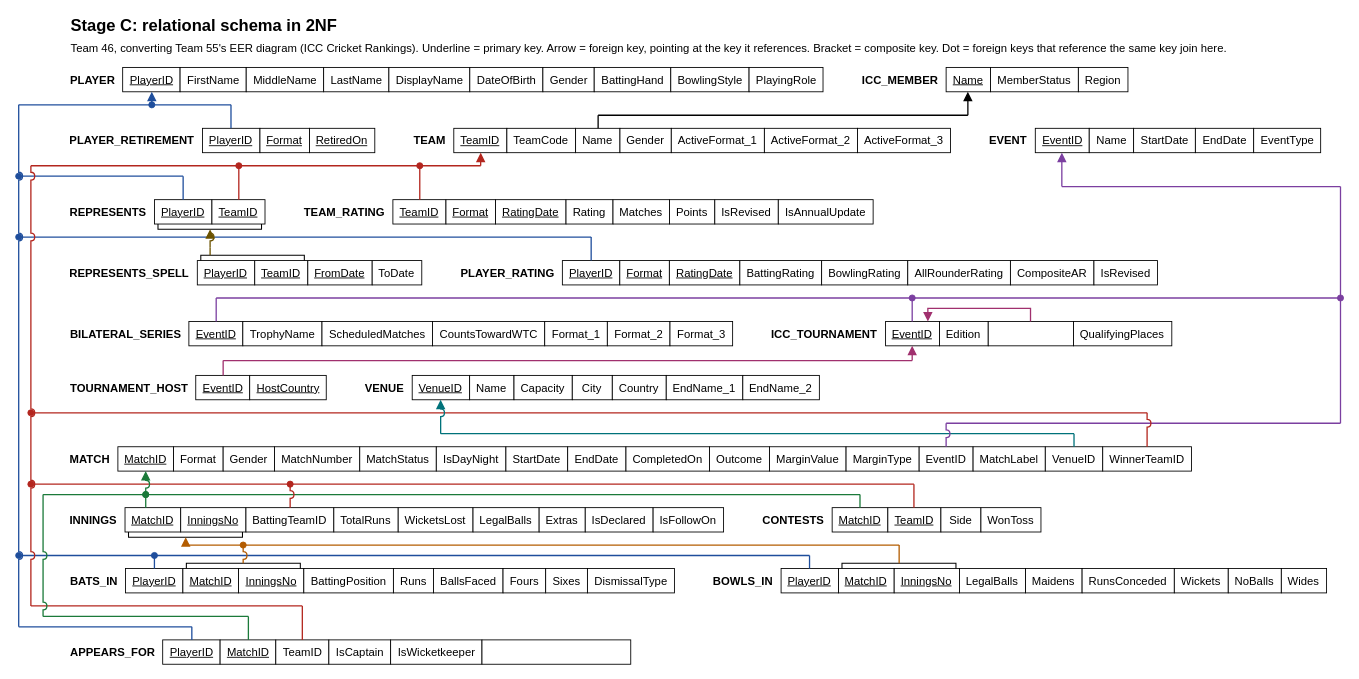
Image size: 1359x679. Some labels were removed from this diagram. Each missing label, with the centre of its shape:
"IsConcussionReplacement" goes at point (556, 651).
"TargetEventID" goes at point (1030, 333).
